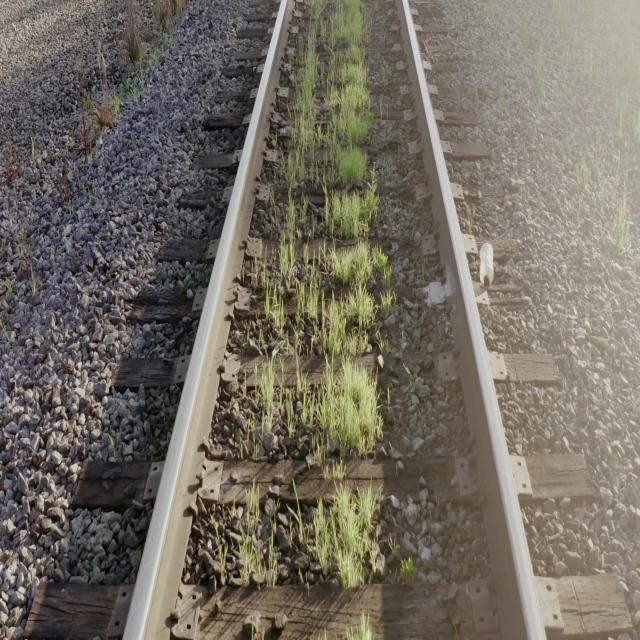Plant: (265, 0, 394, 587), (311, 482, 378, 587), (240, 482, 281, 584), (256, 358, 280, 449)
